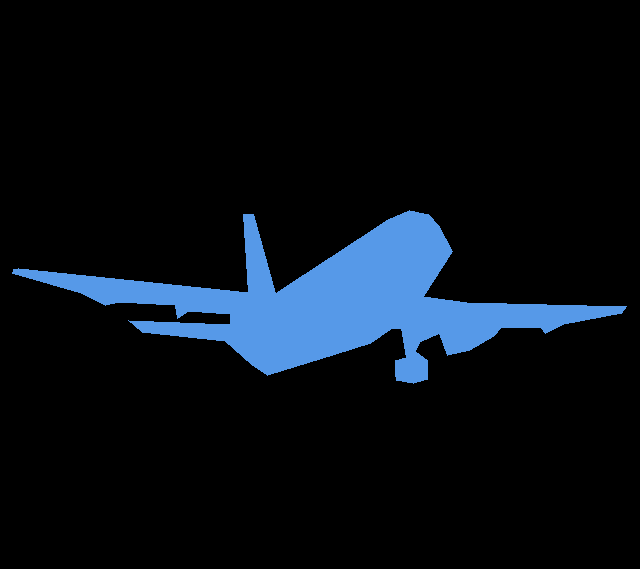Airplane: (12, 210, 626, 383)
